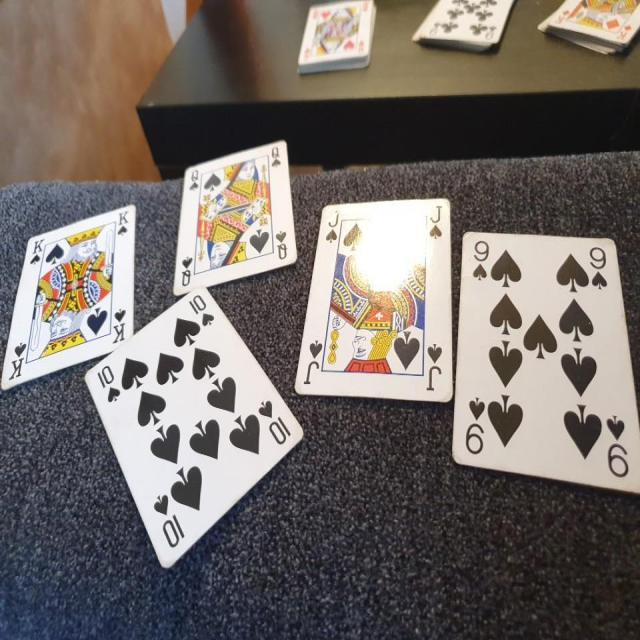10 of spades: (78, 277, 310, 574)
9 of spades: (445, 224, 640, 495)
jack of spades: (294, 188, 456, 417)
king of spades: (10, 204, 138, 398)
queen of spades: (167, 138, 300, 300)
